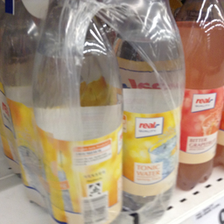soda: (30, 1, 123, 223), (115, 1, 185, 218), (173, 1, 224, 191)
